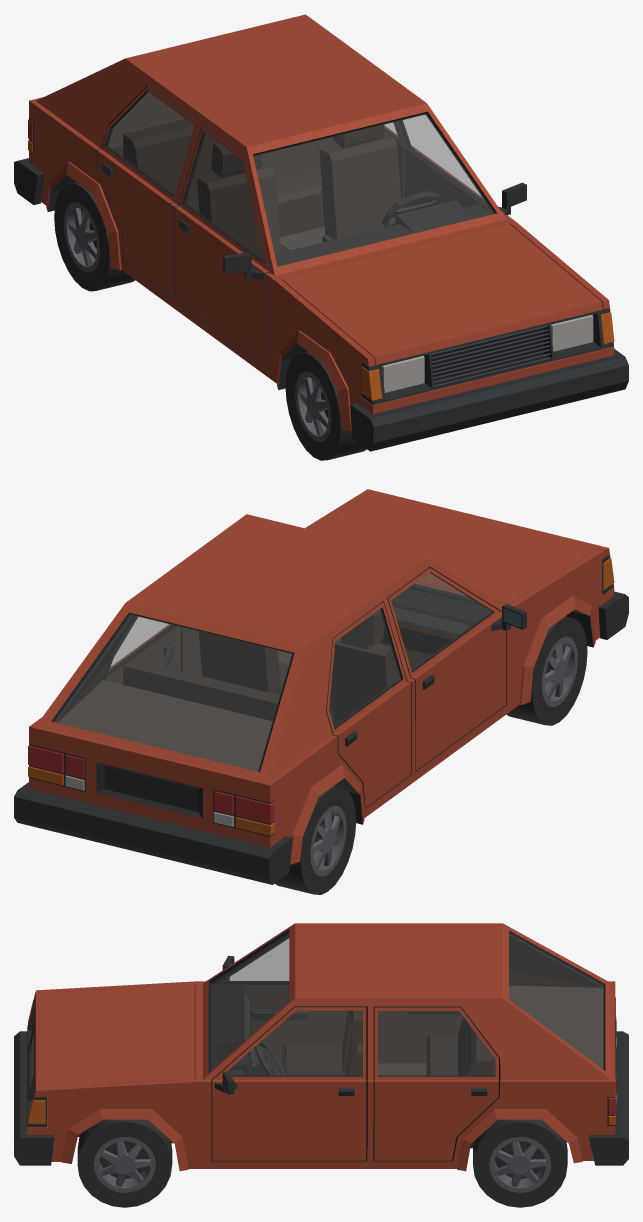
The model's file is 32_hatchback.glb.
The picture shows the model from 3 angles, top to bottom: view 1: azimuth 30°, elevation 25°; view 2: azimuth 150°, elevation 25°; view 3: azimuth 270°, elevation 25°; orthographic projection. The views are drawn at different scales.
Parts seen in each view (by area): view 1: Car_body, inerior, windows, door_1_right, door_2_right, window_door_2_right, window_door_1_right, wheel_front_right, wheel_back_right, door_1_left, window_door_1_left; view 2: Car_body, windows, inerior, door_1_right, door_2_right, window_door_1_right, window_door_2_right, wheel_back_right, wheel_front_right, door_2_left, window_door_2_left, door_1_left; view 3: Car_body, door_1_left, windows, inerior, door_2_left, wheel_front_left, wheel_back_left, window_door_2_left, window_door_1_left, door_1_right, door_2_right, window_door_1_right.
Part boxes in pixels (x1,y1,x2,y2): Car_body: [14, 14, 628, 451]; inerior: [123, 119, 492, 266]; windows: [253, 113, 494, 266]; door_1_right: [174, 126, 269, 364]; door_2_right: [97, 86, 197, 295]; window_door_2_right: [106, 92, 193, 195]; window_door_1_right: [184, 133, 264, 261]; wheel_front_right: [285, 351, 366, 460]; wheel_back_right: [54, 182, 134, 291]; door_1_left: [398, 120, 526, 215]; window_door_1_left: [402, 115, 485, 202]; Car_body: [14, 489, 628, 884]; windows: [54, 573, 473, 771]; inerior: [123, 588, 491, 726]; door_1_right: [387, 567, 526, 770]; door_2_right: [326, 602, 410, 807]; window_door_1_right: [391, 573, 492, 670]; window_door_2_right: [329, 609, 401, 727]; wheel_back_right: [275, 785, 356, 894]; wheel_front_right: [506, 616, 587, 725]; door_2_left: [103, 616, 177, 684]; window_door_2_left: [110, 617, 171, 670]; door_1_left: [181, 627, 201, 675]; Car_body: [14, 923, 628, 1171]; door_1_left: [212, 1006, 366, 1160]; windows: [210, 932, 603, 1070]; inerior: [212, 985, 492, 1075]; door_2_left: [374, 1007, 498, 1160]; wheel_front_left: [77, 1119, 172, 1207]; wheel_back_left: [473, 1119, 567, 1207]; window_door_2_left: [378, 1011, 495, 1075]; window_door_1_left: [228, 1011, 362, 1075]; door_1_right: [213, 935, 347, 1063]; door_2_right: [378, 1011, 462, 1063]; window_door_1_right: [224, 939, 288, 980].
Size of the model in its own units: 1.92 by 1.39 by 3.97.
2 materials, 2 textured.
